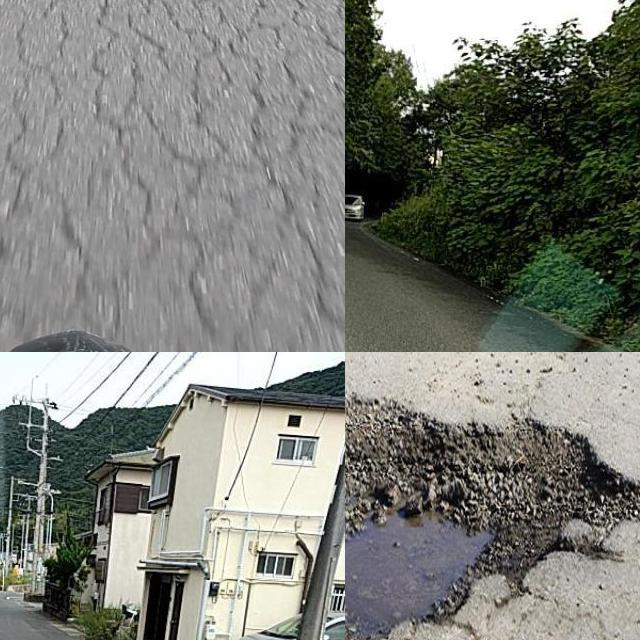Lubang: (345, 403, 640, 640)
Retak Buaya: (0, 0, 345, 352)
